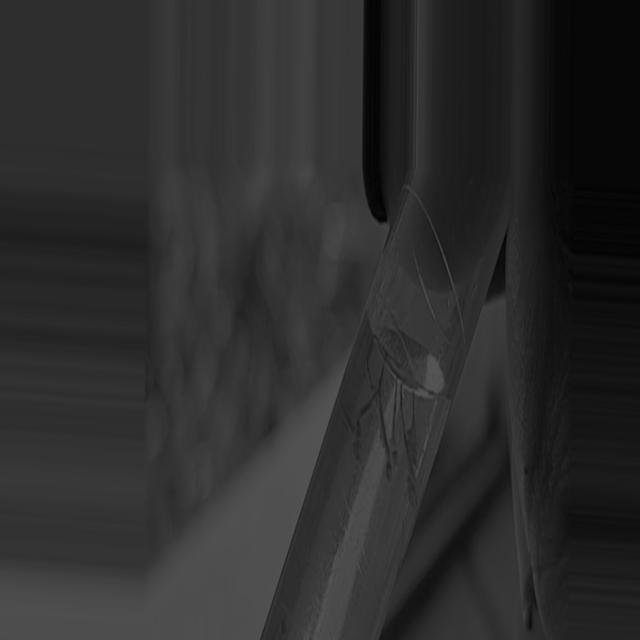larvas: (400, 391, 413, 505), (378, 368, 391, 476), (339, 400, 359, 458), (354, 397, 374, 433), (407, 396, 417, 464), (391, 375, 398, 471), (364, 344, 376, 390)
